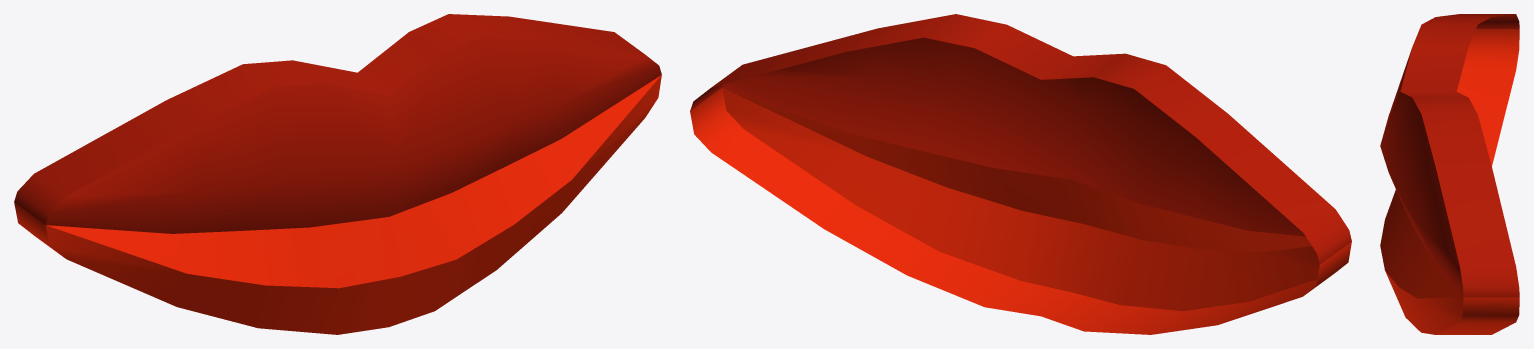
The model's file is Mouth_Lipstick_01.fbx.
3 views of the same model, side by side, from view 1: azimuth 30°, elevation 25°; view 2: azimuth 150°, elevation 25°; view 3: azimuth 270°, elevation 25° (orthographic). The views are drawn at different scales.
Visible parts, largest first — view 1: Mouth_Lipstick_01; view 2: Mouth_Lipstick_01; view 3: Mouth_Lipstick_01.
Boxes of the visible parts, x1,y1,x2,y2 form: Mouth_Lipstick_01: [14, 14, 661, 334]; Mouth_Lipstick_01: [690, 14, 1351, 334]; Mouth_Lipstick_01: [1380, 14, 1519, 334].
Bounding box in the file's own units: 29.09 × 11.56 × 6.39.
